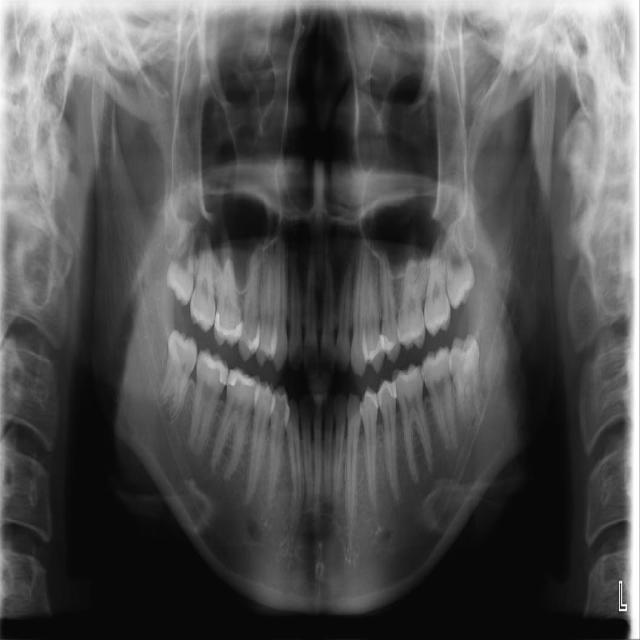Filling: (202, 351, 229, 384), (215, 312, 242, 341), (226, 367, 257, 389), (243, 325, 258, 354), (361, 342, 381, 361), (378, 382, 398, 401), (378, 331, 395, 351), (363, 391, 377, 408)
impacted tooth: (149, 330, 198, 419), (449, 338, 483, 426)
